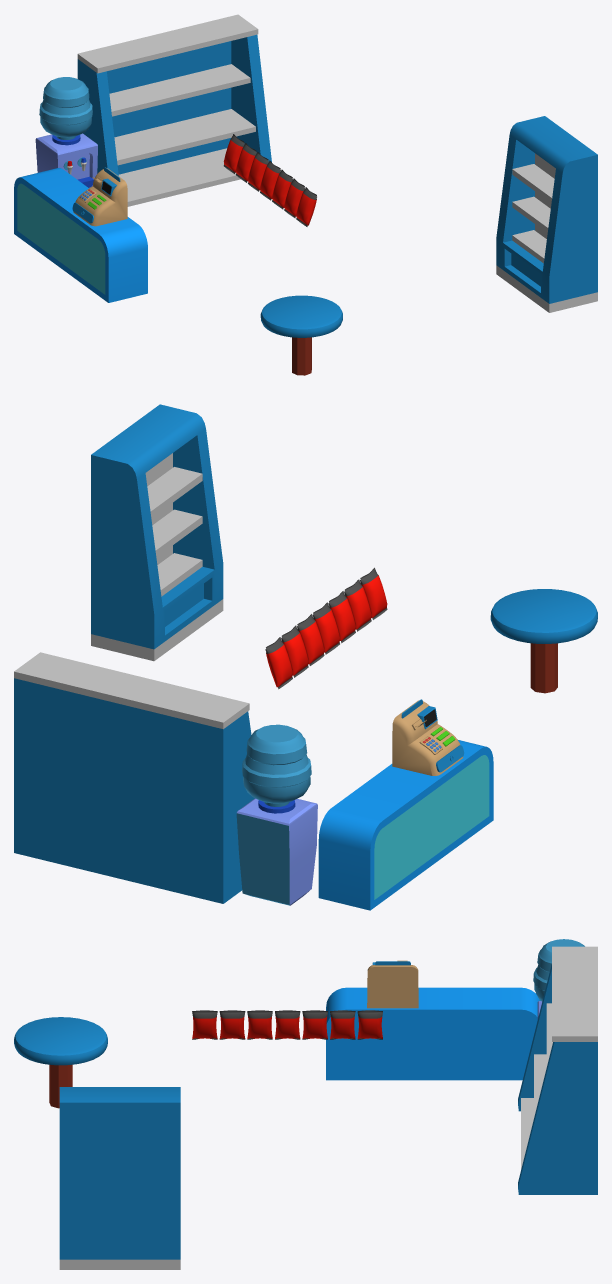
Rendered from convenience store2.fbx.
The picture shows the model from 3 angles, top to bottom: view 1: azimuth 30°, elevation 25°; view 2: azimuth 150°, elevation 25°; view 3: azimuth 270°, elevation 25°; orthographic projection. The views are drawn at different scales.
Parts seen in each view (by area): view 1: shelf3_L, Vending2_L, counter_L, water _m_L, store table_L, Chip_L, calculator_L; view 2: shelf3_L, Vending2_L, counter_L, water _m_L, store table_L, Chip_L, calculator_L; view 3: Vending2_L, counter_L, shelf3_L, Chip_L, store table_L, calculator_L, water _m_L.
Part boxes in pixels (x1,y1,x2,y2): shelf3_L: (77, 14, 271, 206); Vending2_L: (496, 116, 597, 312); counter_L: (14, 168, 147, 302); water _m_L: (35, 77, 97, 188); store table_L: (260, 295, 342, 375); Chip_L: (223, 134, 316, 226); calculator_L: (72, 167, 127, 226); shelf3_L: (14, 652, 254, 903); Vending2_L: (91, 404, 223, 661); counter_L: (318, 740, 493, 910); water _m_L: (236, 724, 317, 905); store table_L: (490, 589, 597, 693); Chip_L: (265, 567, 387, 689); calculator_L: (392, 699, 464, 775); Vending2_L: (59, 1087, 180, 1269); counter_L: (326, 987, 540, 1080); shelf3_L: (518, 946, 597, 1194); Chip_L: (192, 1010, 382, 1039); store table_L: (14, 1017, 107, 1108); calculator_L: (367, 960, 418, 1008); water _m_L: (533, 939, 584, 1019).
Bounding box in the file's own units: 640 × 761 × 240.
